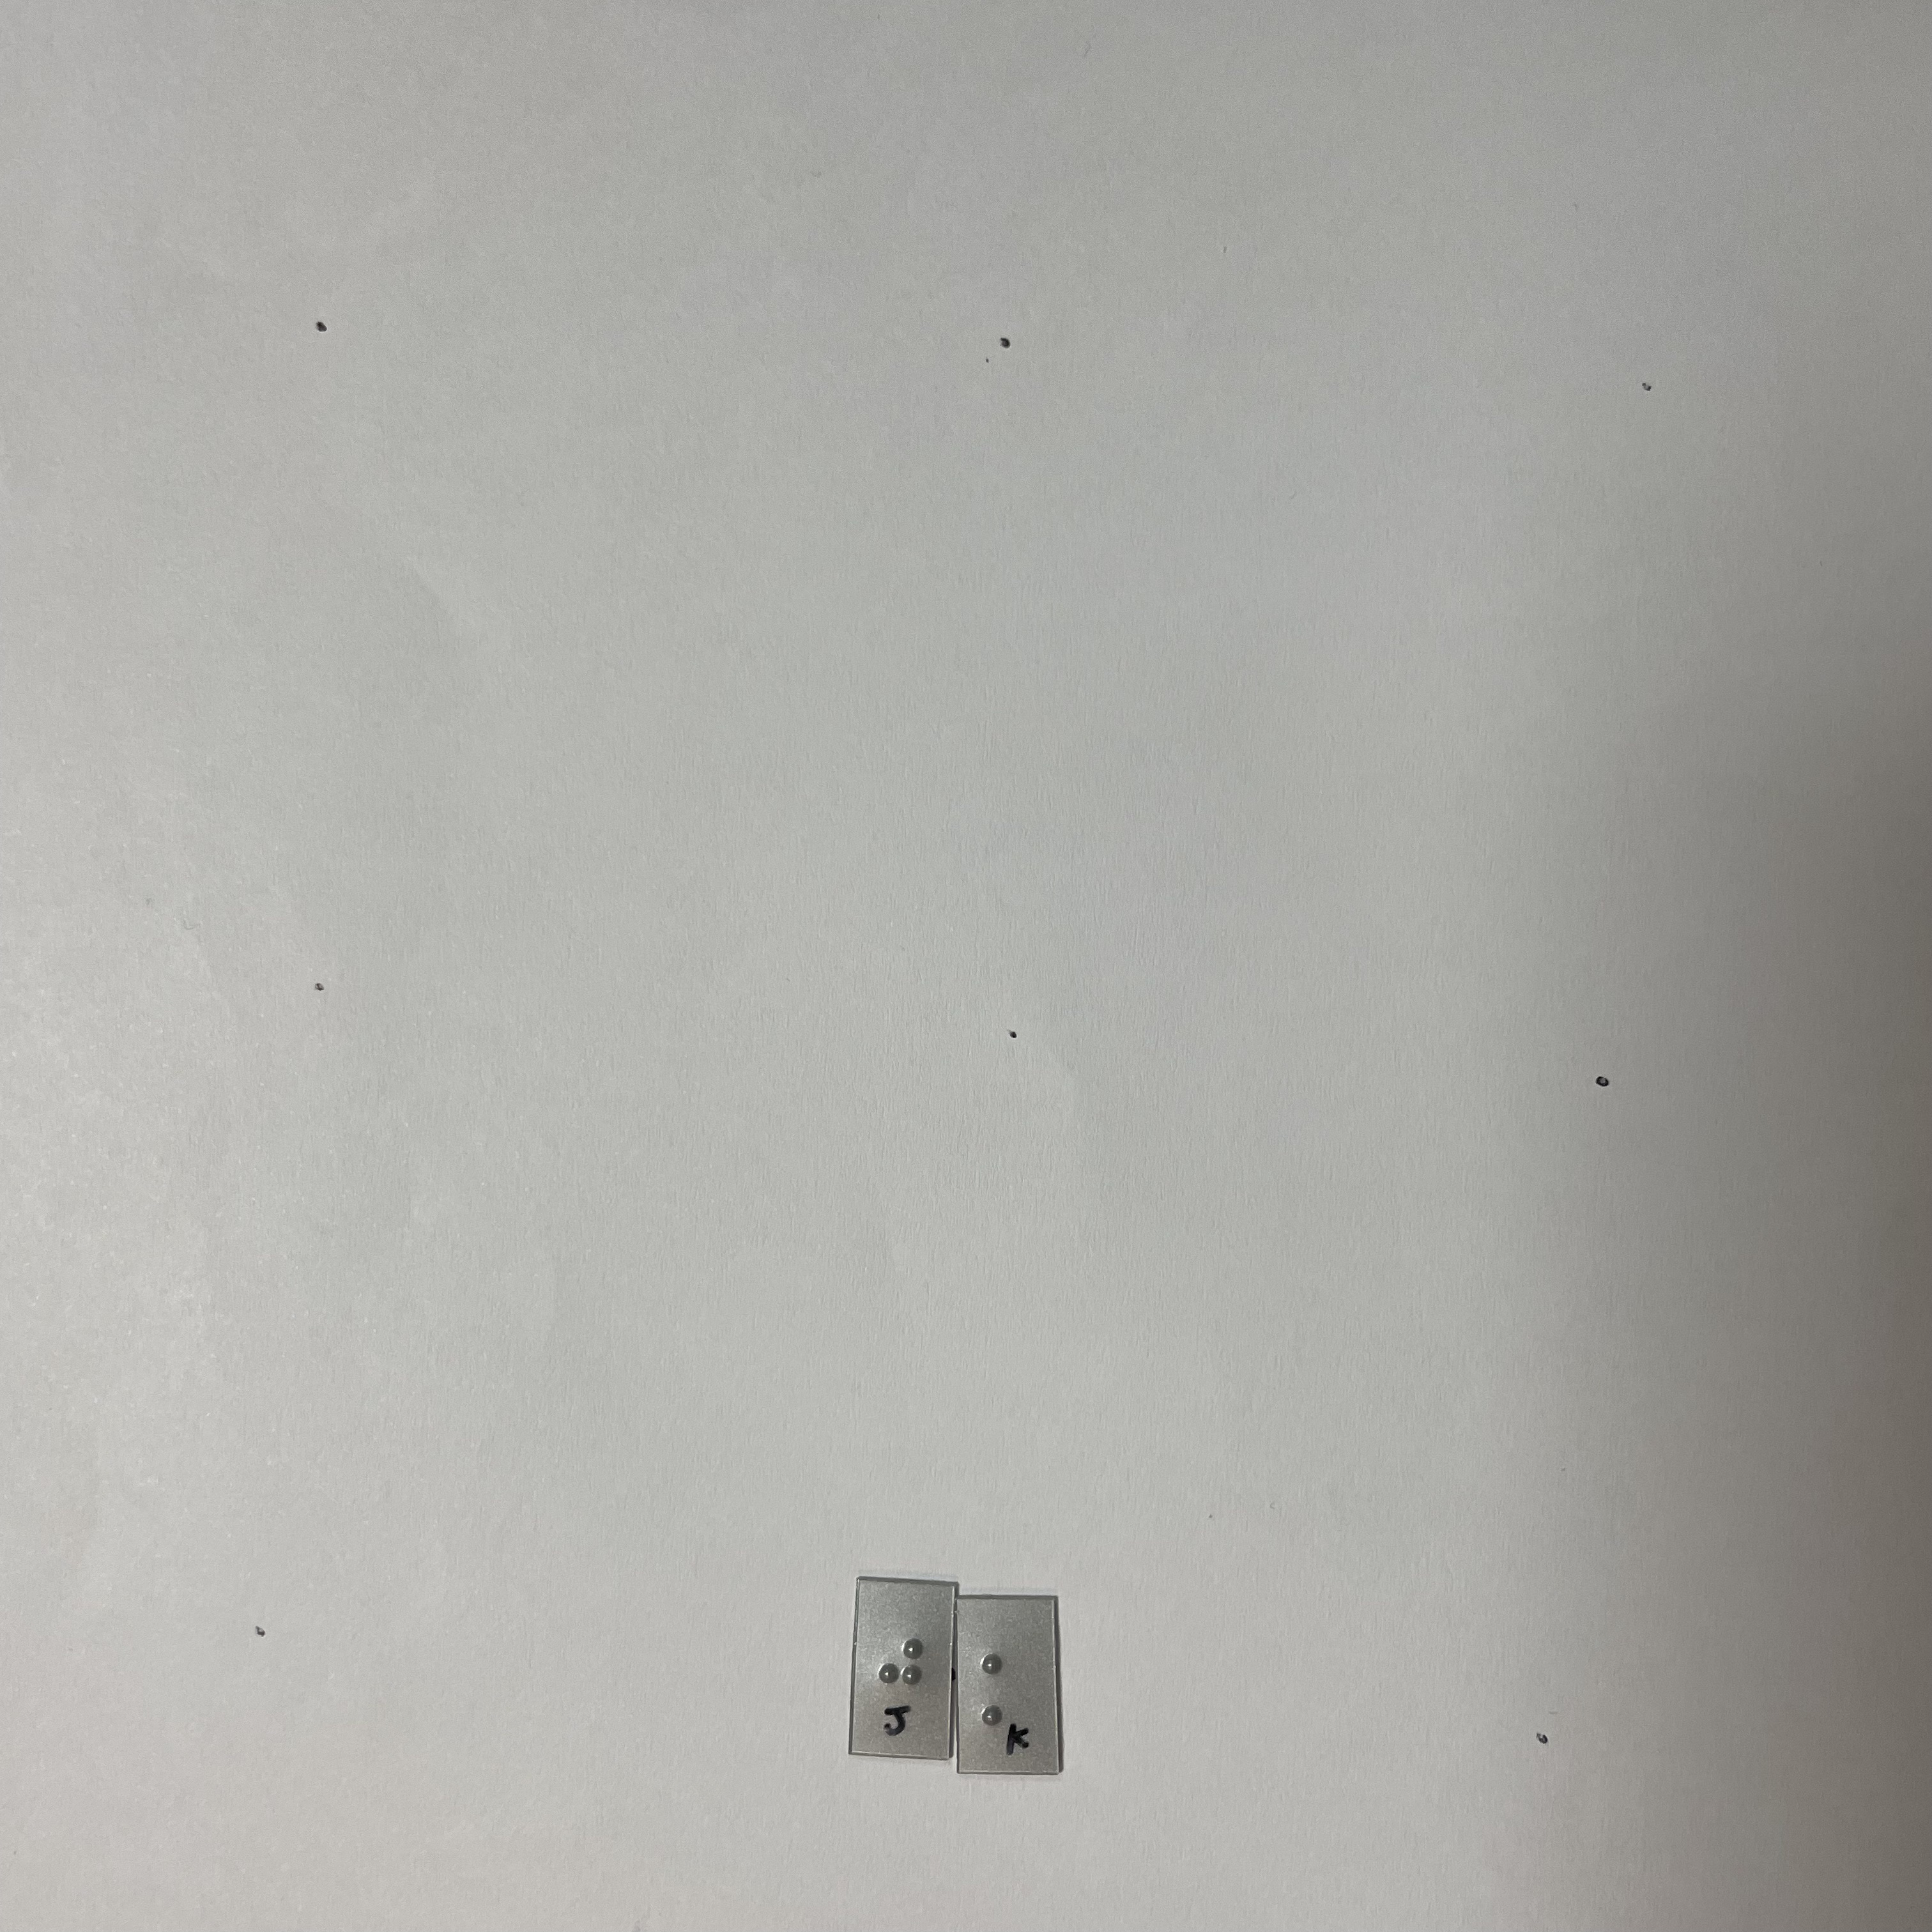j: (873, 1623, 933, 1721)
k: (973, 1640, 1041, 1730)
